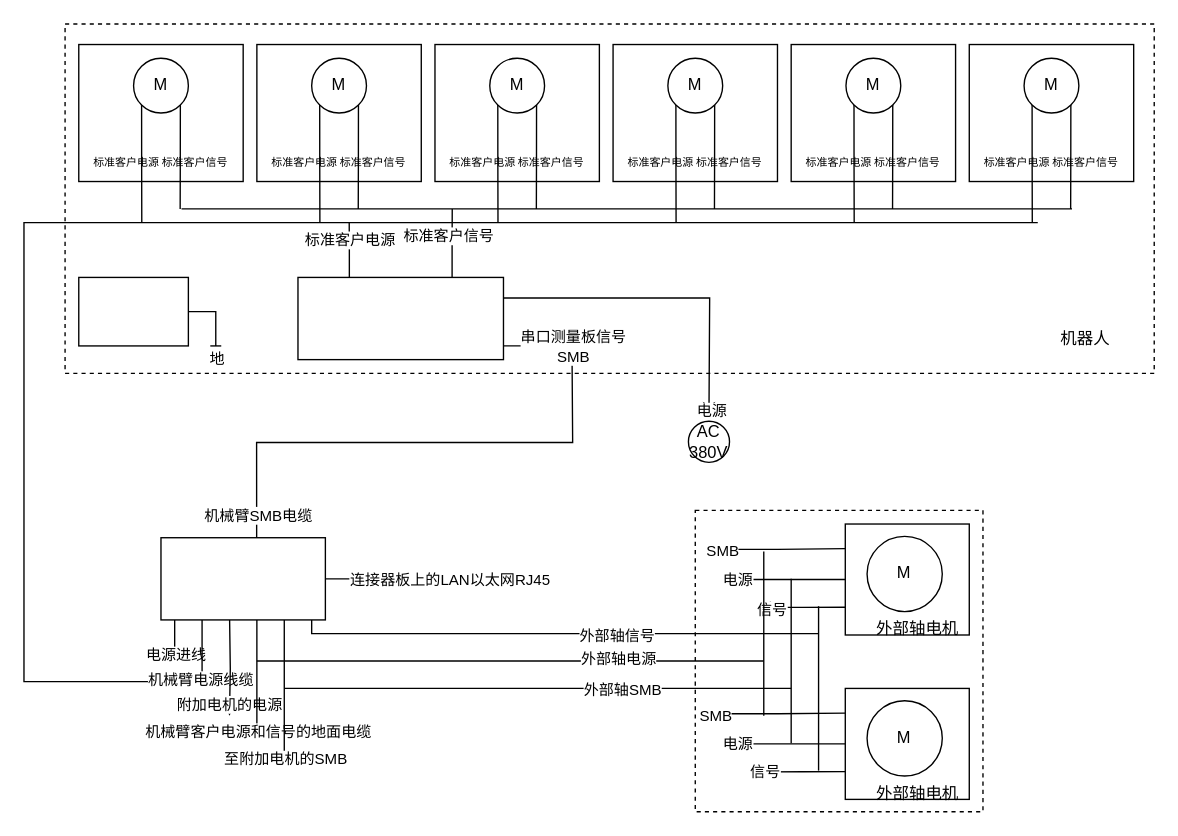
The diagram is 1178 pixels wide and 836 high, and some of its shapes have lost their labels. Here are the shapes that lost their labels. From the top down, the centre of each, then its label:
the point at 132,311: 机械臂底座
the point at 400,318: 机器人底座上的客户连接
the point at 242,578: IRC5控制柜
